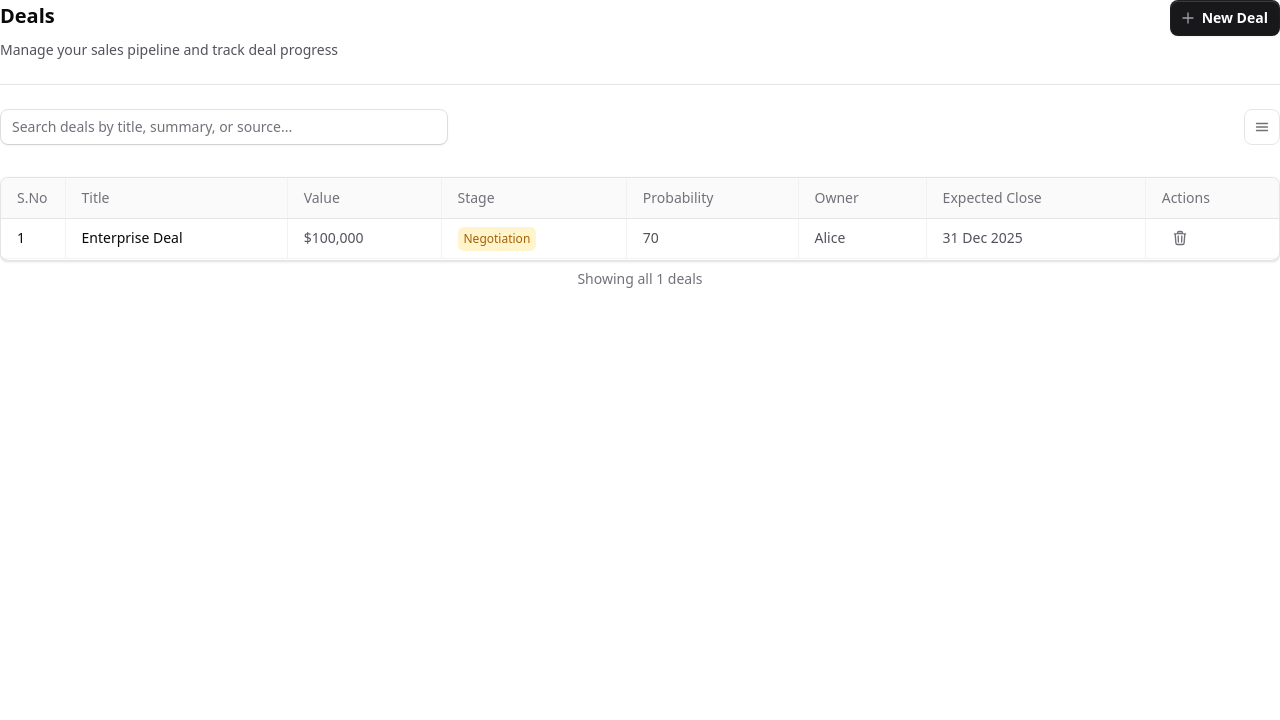
Test: DealsList › opens column creation modal when add column button is clicked
The width and height of the screenshot is (1280, 720).
Expected: the link "Enterprise Deal" is shown, [82, 228, 182, 247]
Click the button named "add column" at (1262,127), box [1244, 109, 1279, 145]
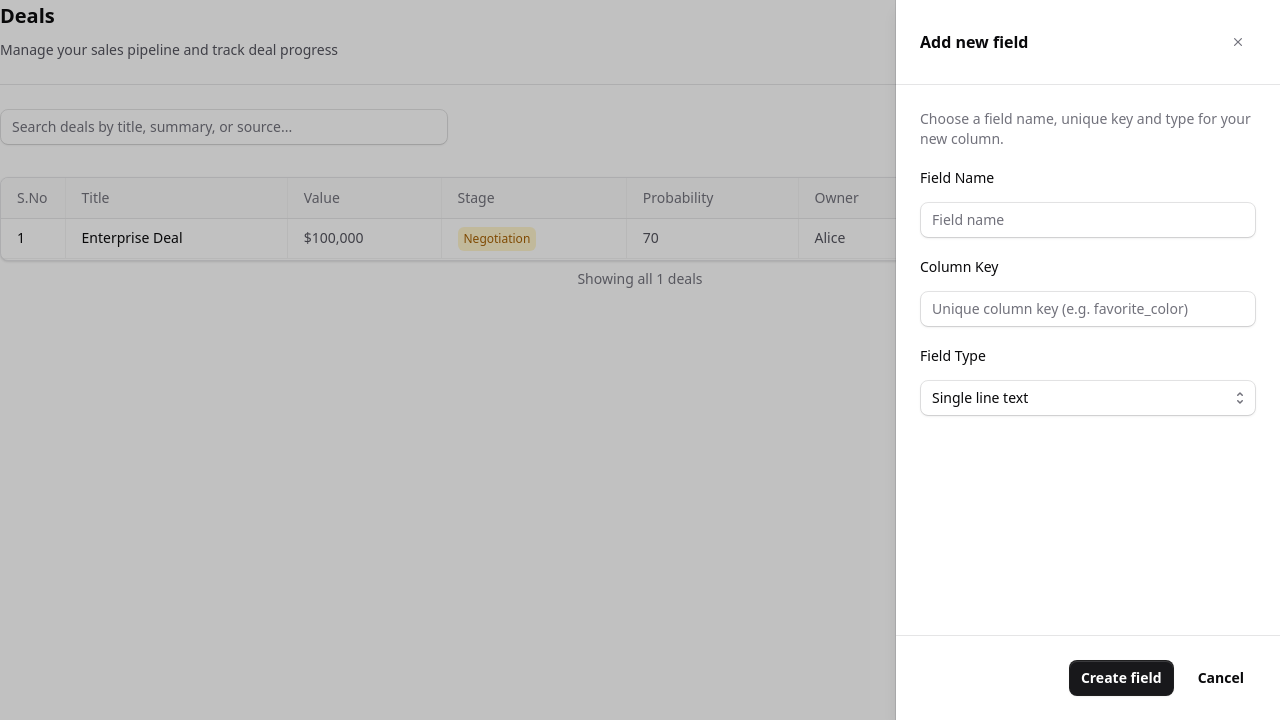
Result: the heading "Add new field" is shown at [920, 30, 1028, 54]
Result: the field with placeholder "Field Name" is shown at [920, 202, 1256, 238]
Result: the field with placeholder "Unique column key (e.g. favorite_color)" is shown at [920, 291, 1256, 327]
